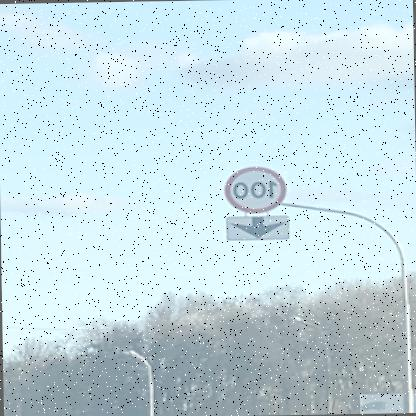speedlimit: (226, 164, 290, 211)
